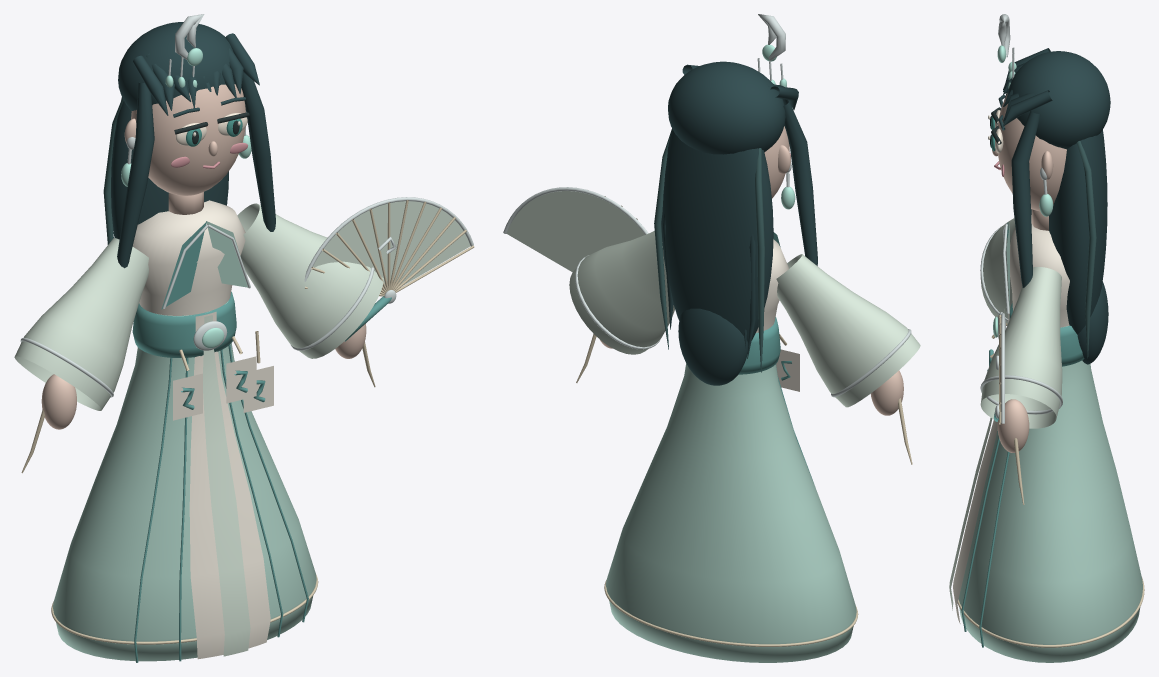
File: lin_yue_portable.glb
3 views of the same model, side by side, from view 1: azimuth 30°, elevation 25°; view 2: azimuth 150°, elevation 25°; view 3: azimuth 270°, elevation 25° (orthographic). The views are drawn at different scales.
Parts seen in each view (by area): view 1: Floor-length pleated jade hanfu skirt, Right wide layered sleeve, Left wide layered sleeve, Moon ivory center fold, Cross-wrapped ivory upper robe, Mint central overfold, Head, Ivory silk folding moon fan, Crown volume, Wide teal waist sash, Left long face framing lock.001, Flowing curtain behind shoulders (+17 smaller); view 2: Floor-length pleated jade hanfu skirt, Flowing curtain behind shoulders, Left wide layered sleeve, Crown volume, Right wide layered sleeve, Ivory silk folding moon fan, Midnight end of hair, Left long face framing lock.001, Editable long hair lock 0.001, Wide teal waist sash, Editable long hair lock 12.001, Cross-wrapped ivory upper robe (+6 smaller); view 3: Floor-length pleated jade hanfu skirt, Right wide layered sleeve, Flowing curtain behind shoulders, Crown volume, Right long face framing lock.001, Head, Cross-wrapped ivory upper robe, Left wide layered sleeve, Moon ivory center fold, Editable long hair lock 12.001, Midnight end of hair, Right hand (+10 smaller).
Part boxes in pixels (left/top/right/bottom): Floor-length pleated jade hanfu skirt: left=52, top=301, right=316, bottom=661; Right wide layered sleeve: left=237, top=203, right=383, bottom=358; Left wide layered sleeve: left=14, top=238, right=148, bottom=410; Moon ivory center fold: left=189, top=311, right=270, bottom=659; Cross-wrapped ivory upper robe: left=132, top=200, right=245, bottom=315; Mint central overfold: left=203, top=315, right=250, bottom=656; Head: left=131, top=84, right=245, bottom=195; Ivory silk folding moon fan: left=313, top=201, right=470, bottom=285; Crown volume: left=118, top=22, right=234, bottom=110; Wide teal waist sash: left=132, top=292, right=236, bottom=357; Left long face framing lock.001: left=117, top=82, right=154, bottom=268; Flowing curtain behind shoulders: left=111, top=97, right=228, bottom=239; Floor-length pleated jade hanfu skirt: left=605, top=363, right=856, bottom=662; Flowing curtain behind shoulders: left=661, top=129, right=773, bottom=342; Left wide layered sleeve: left=776, top=254, right=920, bottom=407; Crown volume: left=668, top=61, right=785, bottom=154; Right wide layered sleeve: left=569, top=231, right=674, bottom=354; Ivory silk folding moon fan: left=506, top=191, right=644, bottom=271; Midnight end of hair: left=678, top=308, right=748, bottom=385; Left long face framing lock.001: left=782, top=99, right=817, bottom=265; Editable long hair lock 0.001: left=755, top=148, right=764, bottom=372; Wide teal waist sash: left=738, top=317, right=780, bottom=374; Editable long hair lock 12.001: left=654, top=129, right=671, bottom=349; Cross-wrapped ivory upper robe: left=756, top=239, right=789, bottom=332; Floor-length pleated jade hanfu skirt: left=958, top=326, right=1142, bottom=662; Right wide layered sleeve: left=980, top=267, right=1062, bottom=428; Flowing curtain behind shoulders: left=1049, top=129, right=1107, bottom=334; Crown volume: left=1008, top=51, right=1110, bottom=149; Right long face framing lock.001: left=1011, top=111, right=1040, bottom=287; Head: left=997, top=93, right=1066, bottom=211; Cross-wrapped ivory upper robe: left=1010, top=215, right=1069, bottom=327; Left wide layered sleeve: left=980, top=209, right=1031, bottom=325; Moon ivory center fold: left=953, top=307, right=1009, bottom=623; Editable long hair lock 12.001: left=1076, top=141, right=1096, bottom=358; Midnight end of hair: left=1077, top=281, right=1108, bottom=364; Right hand: left=997, top=399, right=1029, bottom=452.
Size of the model in its own units: 2.79 by 3.89 by 1.13.
